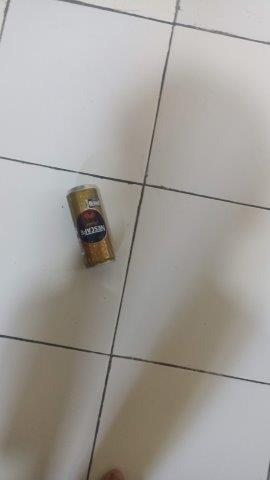kaleng: (67, 185, 113, 266)
